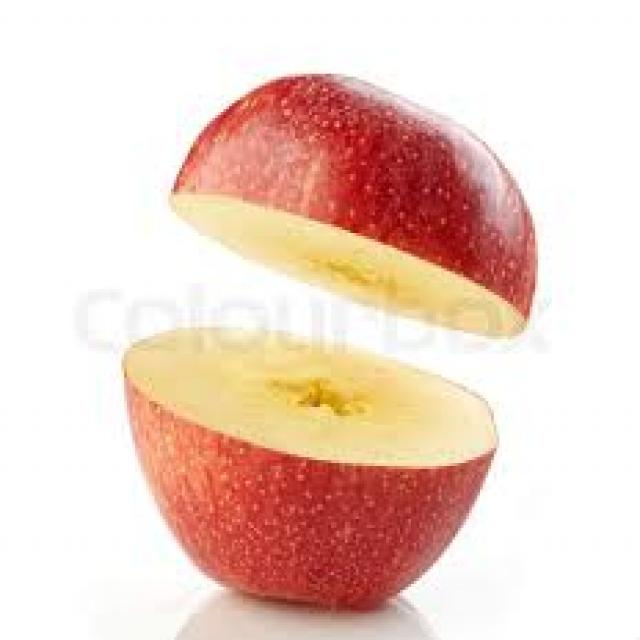Apple: (101, 313, 507, 611), (169, 53, 543, 343)
